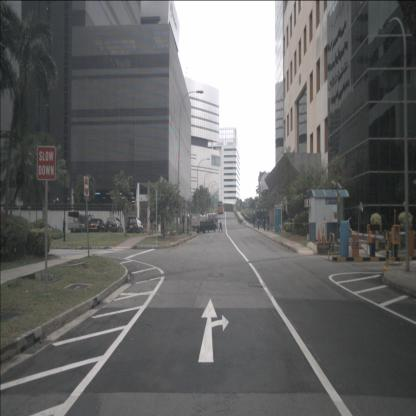cone: (321, 227, 326, 242), (317, 228, 321, 243)
